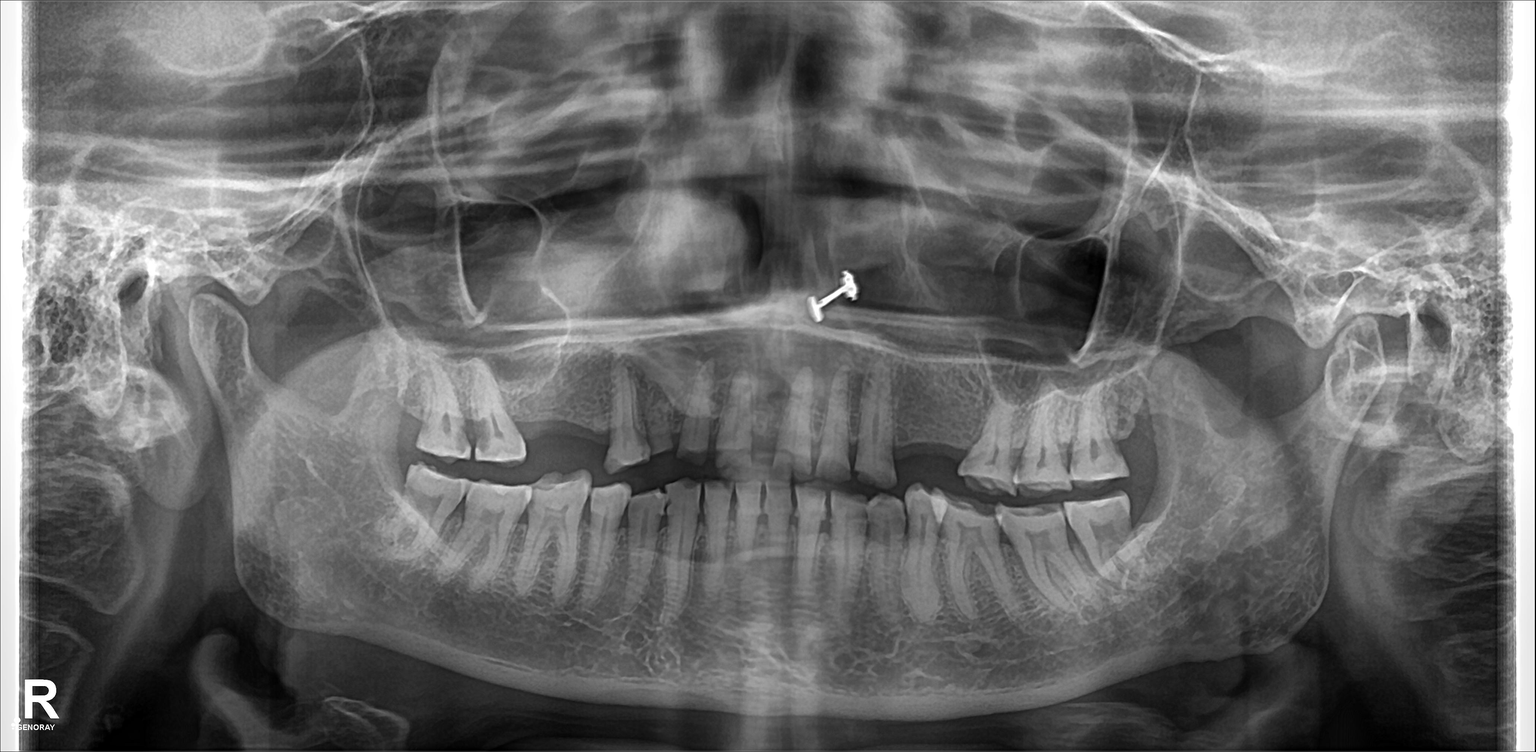Dental Caries: (464, 413, 492, 450)
Missing Tooth: (881, 383, 930, 478), (507, 374, 557, 465), (926, 385, 967, 481), (1110, 398, 1162, 469), (570, 376, 611, 460), (385, 378, 422, 459)
